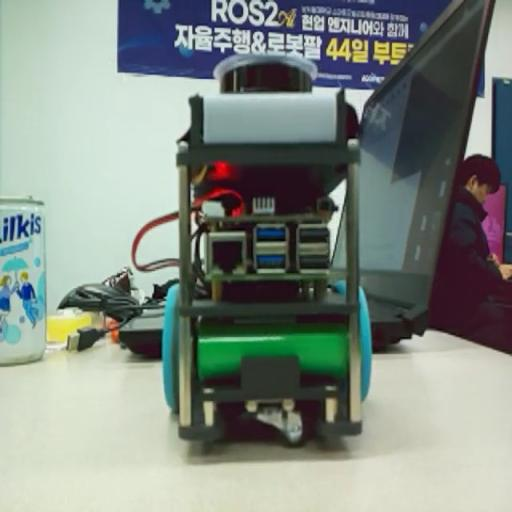pinky_63: (129, 48, 395, 449)
